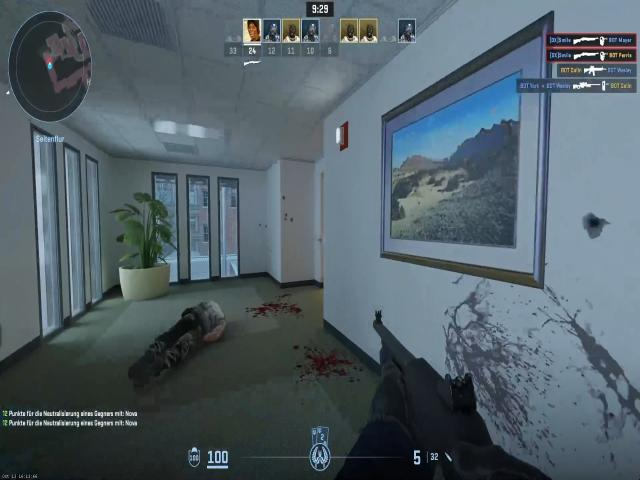Dead: (130, 294, 226, 385)
